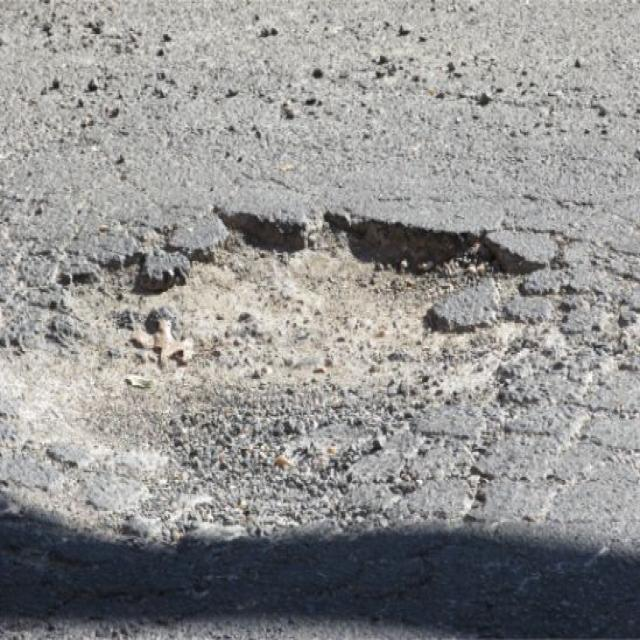pothole: (43, 194, 543, 396)
